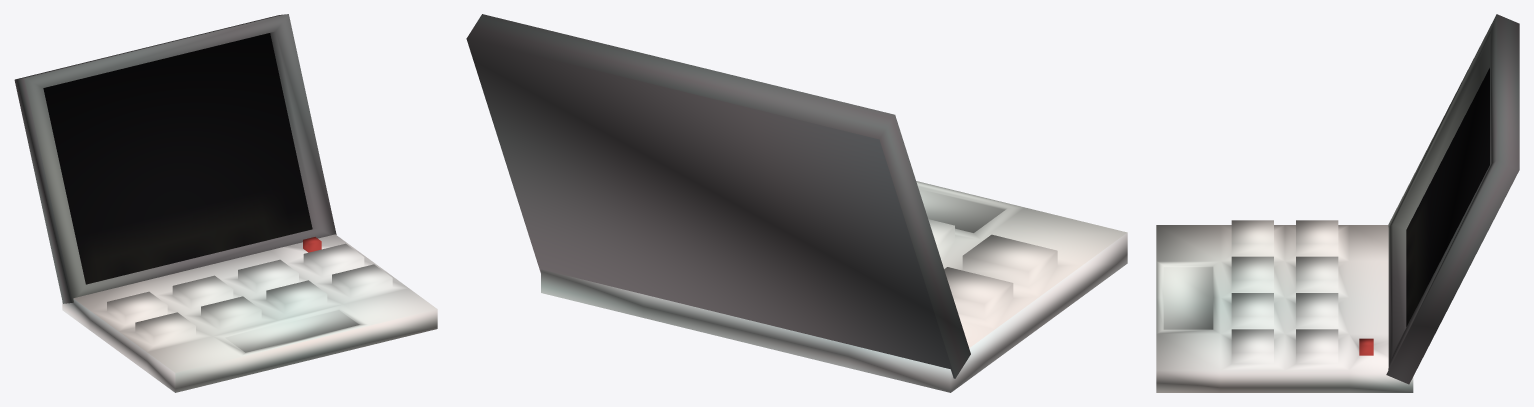
The model's file is Computador.fbx.
3 renders of one model, left to right at view 1: azimuth 30°, elevation 25°; view 2: azimuth 150°, elevation 25°; view 3: azimuth 270°, elevation 25°, orthographic. The views are drawn at different scales.
Parts seen in each view (by area): view 1: Computador; view 2: Computador; view 3: Computador.
Boxes of the visible parts, left/top/right/bottom form: Computador: left=14, top=14, right=437, bottom=392; Computador: left=466, top=14, right=1127, bottom=392; Computador: left=1156, top=14, right=1519, bottom=392.
Size of the model in its own units: 60.5 by 44.86 by 63.35.
Materials: 1 (1 with a texture image).
